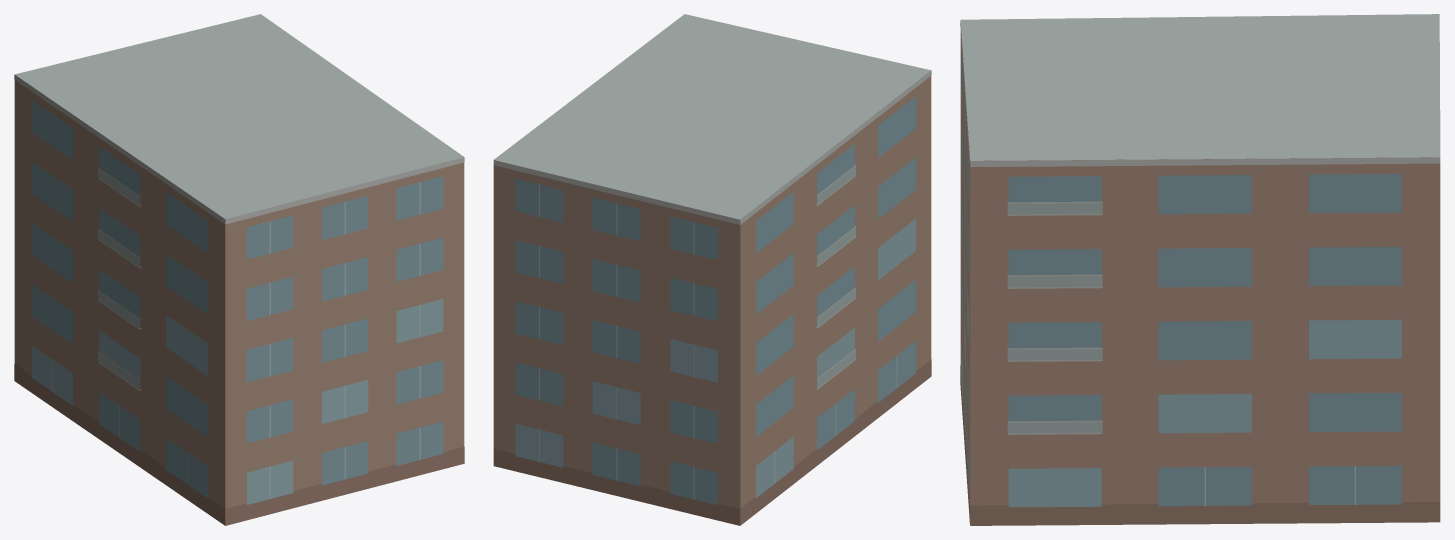
File: survey-upis-32730978.glb
3 views of the same model, side by side, from view 1: azimuth 30°, elevation 25°; view 2: azimuth 150°, elevation 25°; view 3: azimuth 270°, elevation 25° (orthographic). The views are drawn at different scales.
Parts seen in each view (by area): view 1: survey-upis-32730978.tmp; view 2: survey-upis-32730978.tmp; view 3: survey-upis-32730978.tmp.
Part boxes in pixels (x1=…): survey-upis-32730978.tmp: x1=14, y1=14, x2=464, y2=525; survey-upis-32730978.tmp: x1=493, y1=14, x2=931, y2=525; survey-upis-32730978.tmp: x1=960, y1=14, x2=1440, y2=525.
Size of the model in its own units: 12.28 by 14.2 by 16.93.
